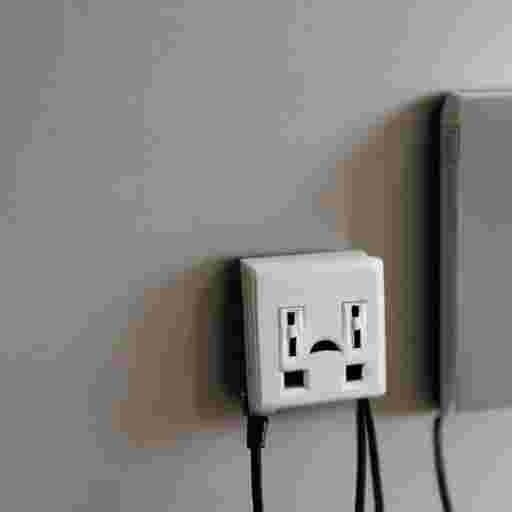power outlet: (241, 251, 385, 414), (440, 90, 511, 416)
